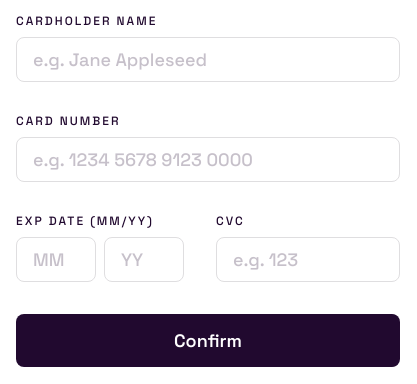
Test: Error handling for Form Component › rejects non-numeric characters in card number
Type "abcd1234" into the field labelled "card number" at (208, 160), box [16,137,400,182]
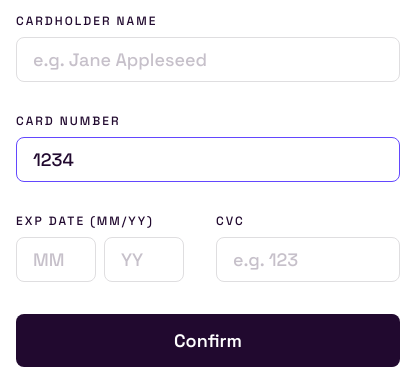
Now the field labelled "card number" holds "1234", box [16,137,400,182]
